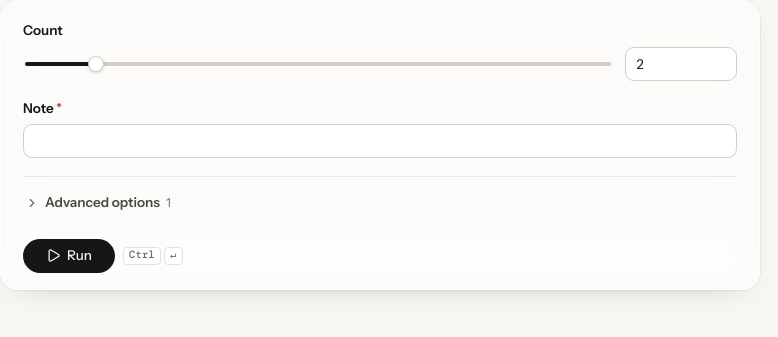
tool form validation › shows untouched required fields after Run and blocks further runs until fixed
Click the button "Run" at {"x": 69, "y": 256}, box [23,239,115,273]
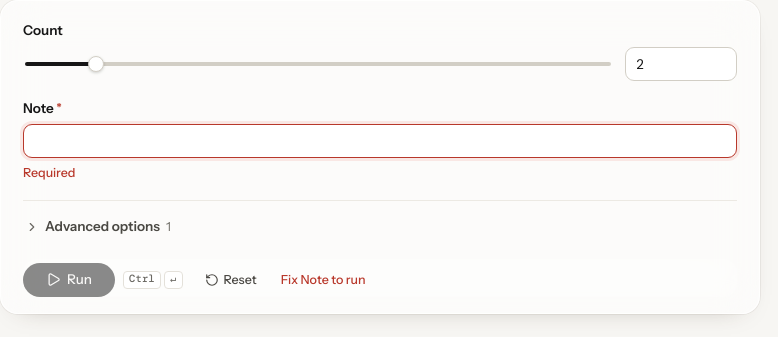
Now the text "Required" is shown, box [23,165,76,180]
Now the button "Run" is disabled, box [23,263,115,297]
